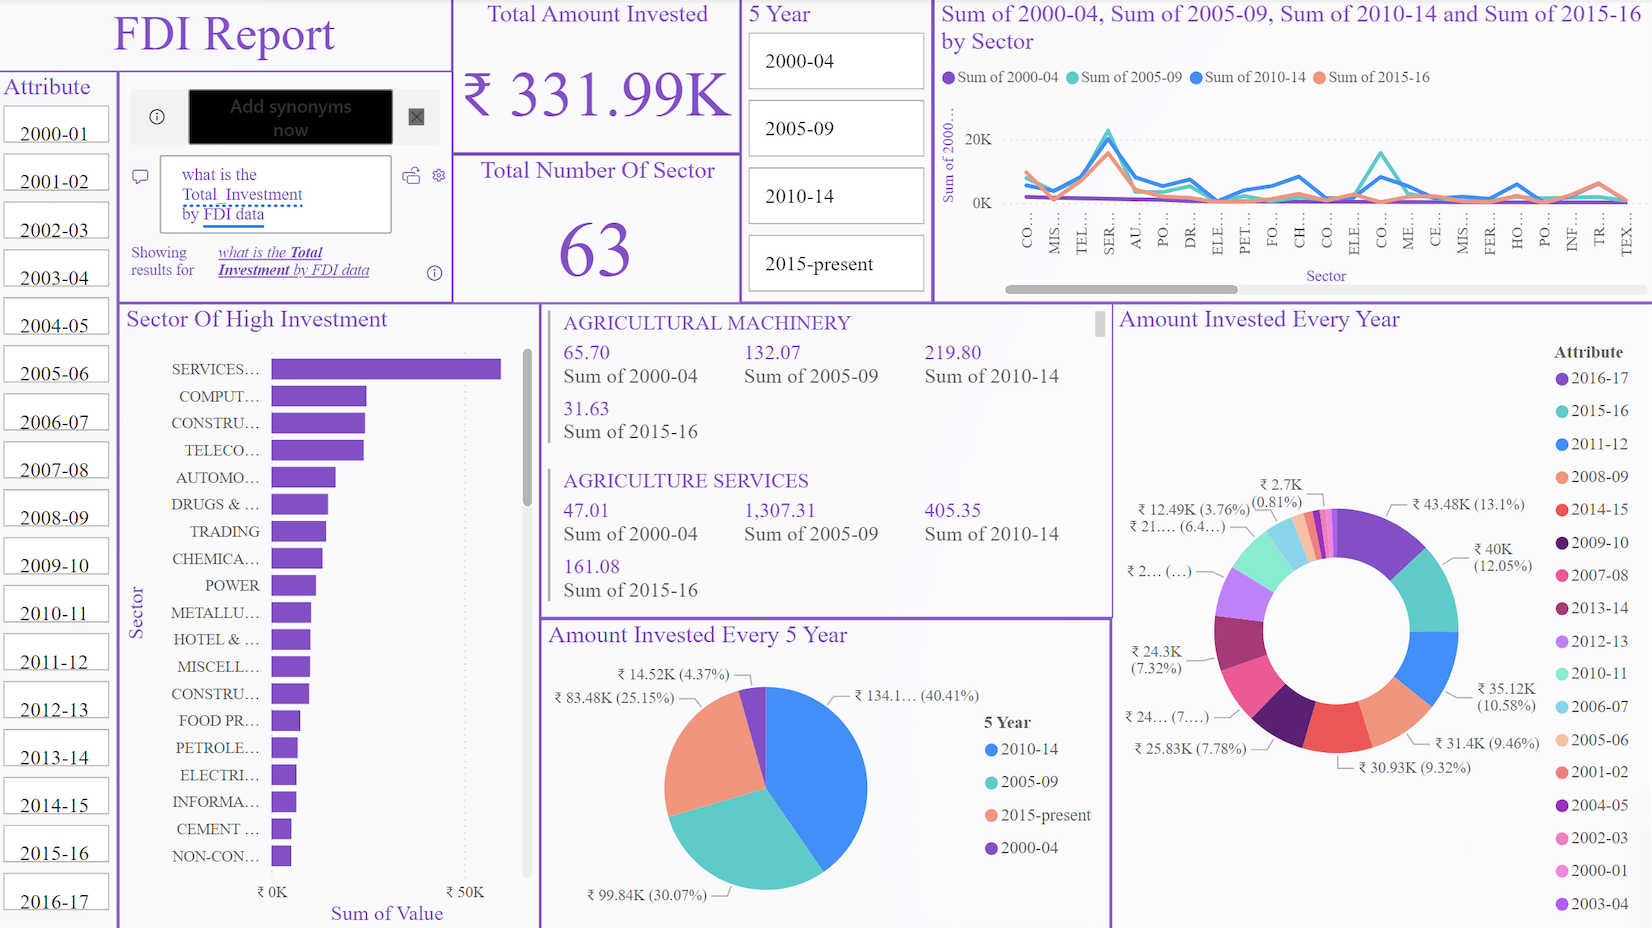

What the dashboard file says about the page in this screenshot:
{"tool":"powerbi","page":{"name":"Page 1","canvas":[1280,720],"ordinal":0},"visuals":[{"type":"donutChart","title":"Amount Invested Every Year","fields":{"Category":["Test.Attribute"],"Y":["Sum(Test.Value)"]},"box":[860.8,235.1,418.9,485.1],"z":0},{"type":"textbox","box":[0,0,352.7,56.8],"z":1000},{"type":"barChart","title":"Sector Of High Investment","fields":{"Category":["FDI data.Sector"],"Y":["Sum(Test.Value)"]},"box":[94.5,235,325.7,485.4],"z":2000},{"type":"qnaVisual","box":[94.5,56.2,258,178.8],"z":3000},{"type":"pieChart","title":"Amount Invested Every 5 Year","fields":{"Category":["Table.5 Year"],"Y":["Sum(Table.Invested Amount)"]},"box":[420.3,478.8,440.2,241.2],"z":4000},{"type":"barChart","title":"Classification Based on Sector","fields":{"Category":["Sector_Investment.Sector"],"Y":["Sum(Sector_Investment.2000-04)","Sum(Sector_Investment.2005-09)","Sum(Sector_Investment.2010-14)","Sum(Sector_Investment.2015-16)"]},"box":[420.3,235.1,441.9,243.2],"z":5000},{"type":"lineChart","fields":{"Category":["Sector_Investment.Sector"],"Y":["Sum(Sector_Investment.2000-04)","Sum(Sector_Investment.2005-09)","Sum(Sector_Investment.2010-14)","Sum(Sector_Investment.2015-16)"]},"box":[723,0,557,235],"z":6000},{"type":"card","title":"Total Number Of Sector","fields":{"Values":["CountNonNull(Sector_5hit.Sector)"]},"box":[352.6,120.1,222.3,115],"z":7000},{"type":"card","title":"Total Amount Invested","fields":{"Values":["Sum(Test.Value)"]},"box":[352.6,0,222.3,120.1],"z":8000},{"type":"advancedSlicerVisual","fields":{"Values":["Test.Attribute"]},"box":[0,56.2,94.5,664.3],"z":9000},{"type":"advancedSlicerVisual","fields":{"Values":["Table.5 Year"]},"box":[574.9,0,148.2,235],"z":10000}]}

Visuals, with their boxes in screenshot pixels (x1, y1, x2, y2), scaled from the page's 1280x720 canvas onto the 1652x928 screenshot:
"Amount Invested Every Year" donutChart: [1111,303,1651,927]
textbox: [0,0,455,73]
"Sector Of High Investment" barChart: [122,303,542,927]
qnaVisual: [122,72,455,303]
"Amount Invested Every 5 Year" pieChart: [542,617,1111,927]
"Classification Based on Sector" barChart: [542,303,1113,616]
lineChart - Sector_Investment.Sector x Sum(Sector_Investment.2000-04): [933,0,1651,303]
"Total Number Of Sector" card: [455,155,742,303]
"Total Amount Invested" card: [455,0,742,155]
advancedSlicerVisual - Test.Attribute: [0,72,122,927]
advancedSlicerVisual - Table.5 Year: [742,0,933,303]
